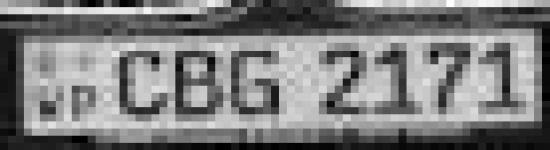1: (372, 37, 425, 121), (474, 39, 530, 118)
2: (313, 41, 372, 120)
7: (424, 39, 474, 118)
B: (173, 45, 225, 120)
C: (113, 44, 175, 120)
G: (223, 43, 290, 122)
P: (71, 80, 99, 122)
W: (36, 80, 66, 124)
